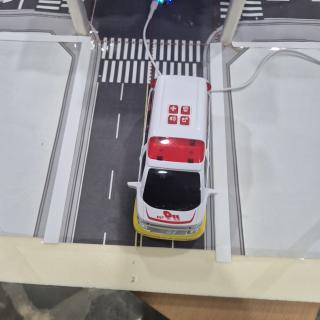Ambulance: (128, 75, 217, 240)
